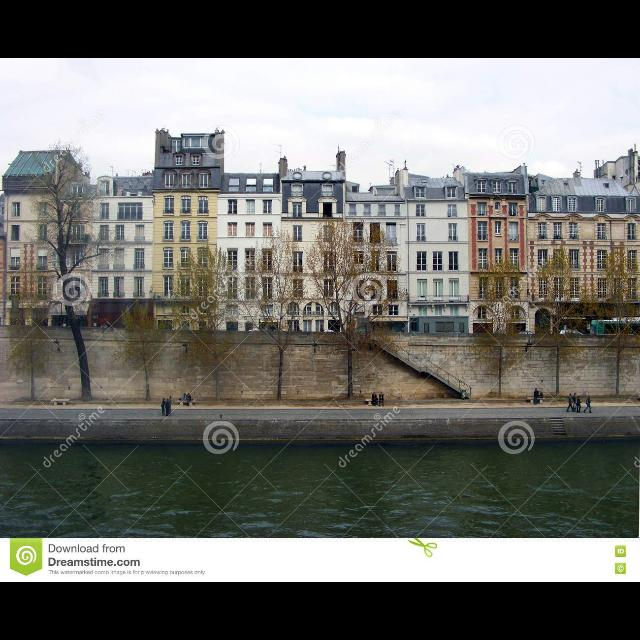head: (574, 393, 578, 397), (588, 396, 592, 399), (374, 392, 376, 396), (381, 392, 383, 396), (570, 394, 572, 398), (578, 396, 580, 399), (535, 389, 537, 391)
person: (566, 393, 576, 413), (583, 395, 593, 413), (572, 392, 580, 410), (574, 396, 582, 414), (378, 391, 386, 407), (532, 388, 540, 404), (372, 392, 378, 406)
